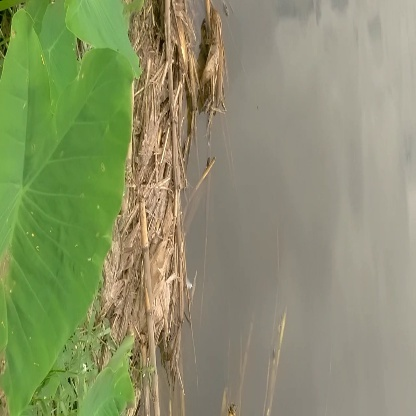branch: (195, 5, 233, 129)
